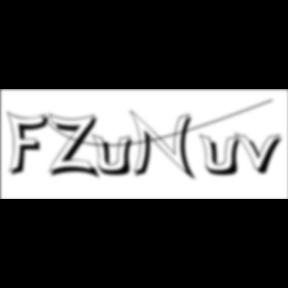F: (7, 110, 55, 178)
N: (129, 109, 199, 183)
Z: (48, 112, 104, 181)
u: (92, 132, 140, 178), (199, 132, 247, 178)
v: (234, 131, 288, 177)
